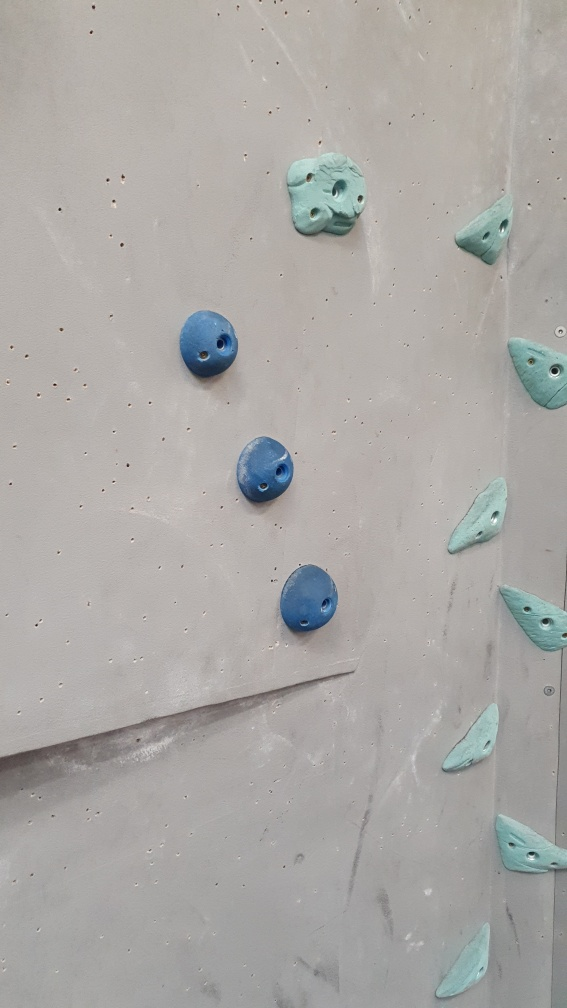Crimp: (451, 184, 521, 270), (498, 576, 567, 663), (445, 474, 512, 560), (429, 919, 497, 1003), (437, 702, 509, 774), (493, 811, 567, 880), (505, 336, 567, 410)
Sloper: (279, 561, 343, 638), (235, 434, 299, 509), (180, 306, 243, 379)
